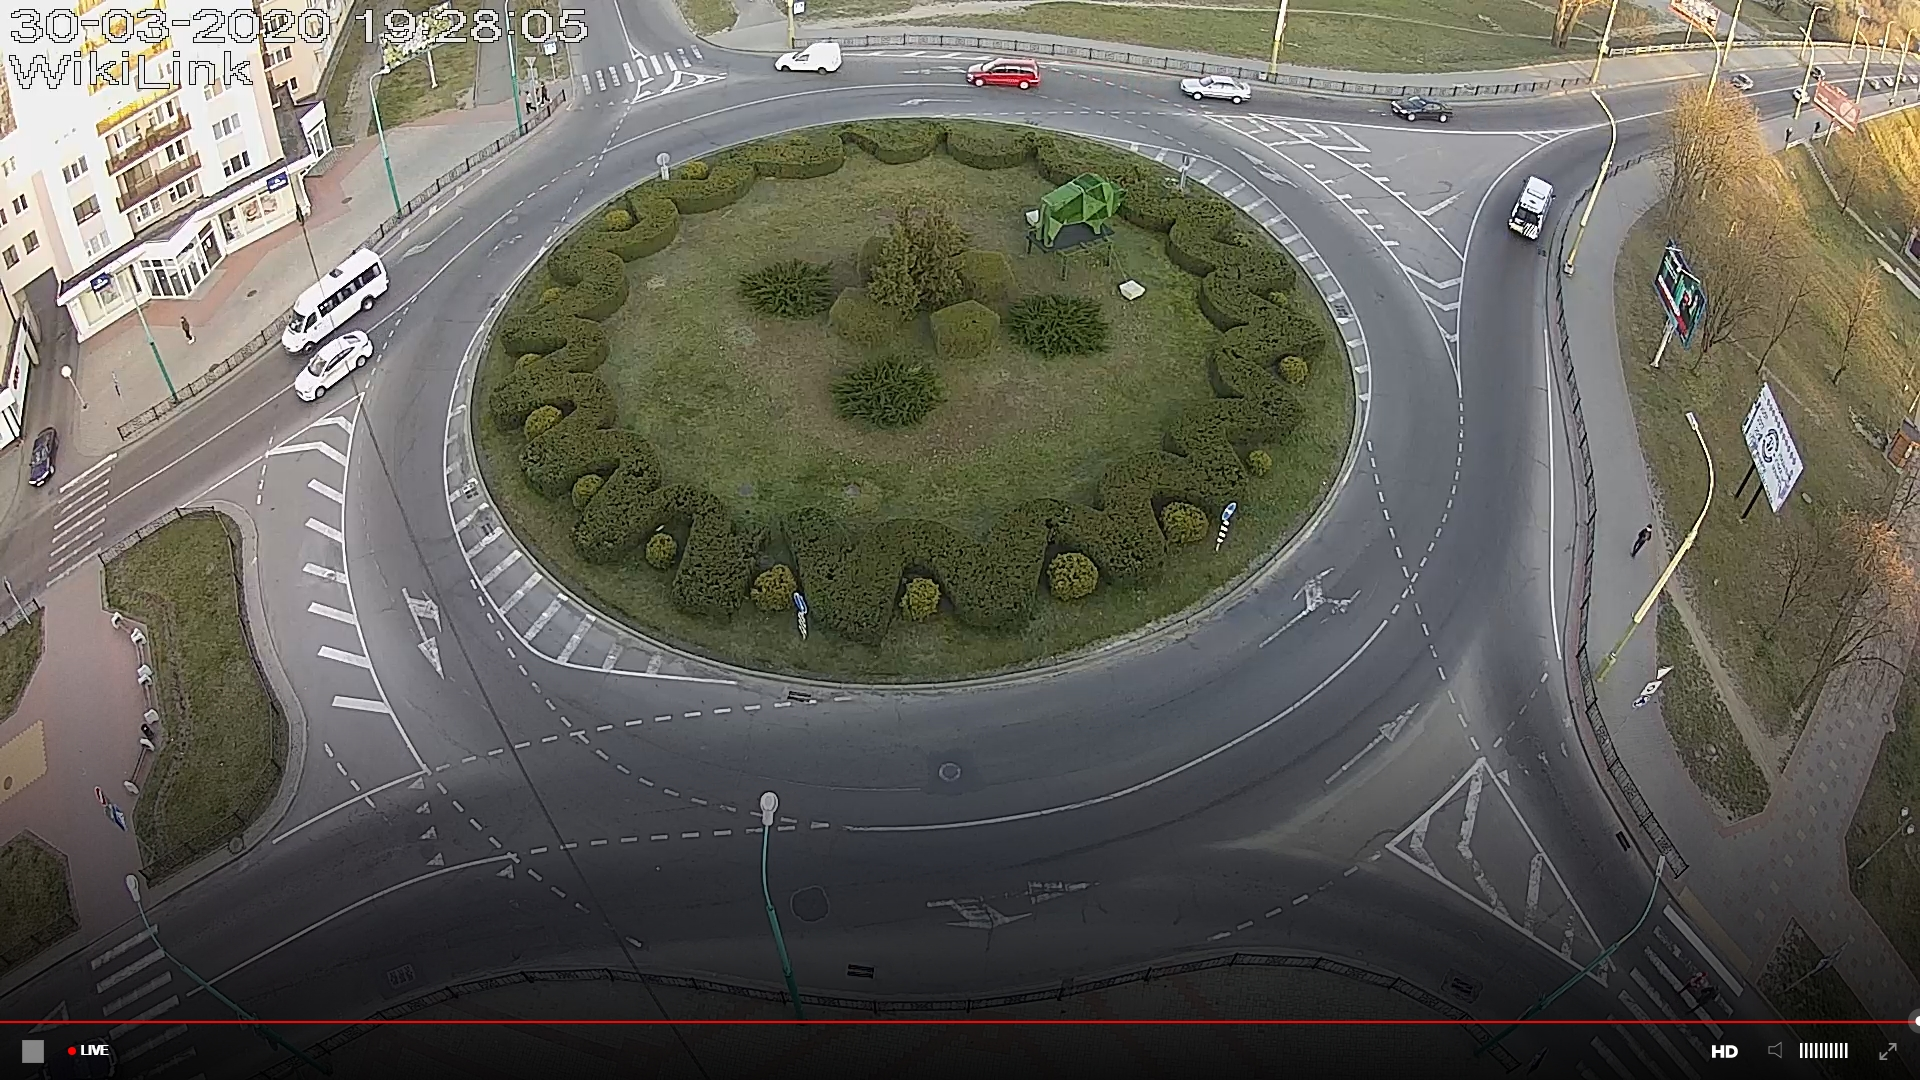car: (282, 247, 392, 357), (294, 328, 375, 402), (1509, 175, 1557, 240), (965, 58, 1040, 90), (774, 42, 843, 76), (1180, 75, 1251, 105), (1391, 95, 1453, 123)
